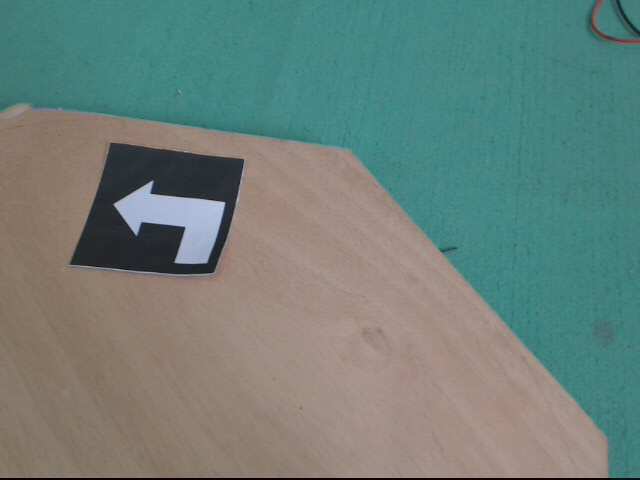left: (67, 141, 247, 277)
